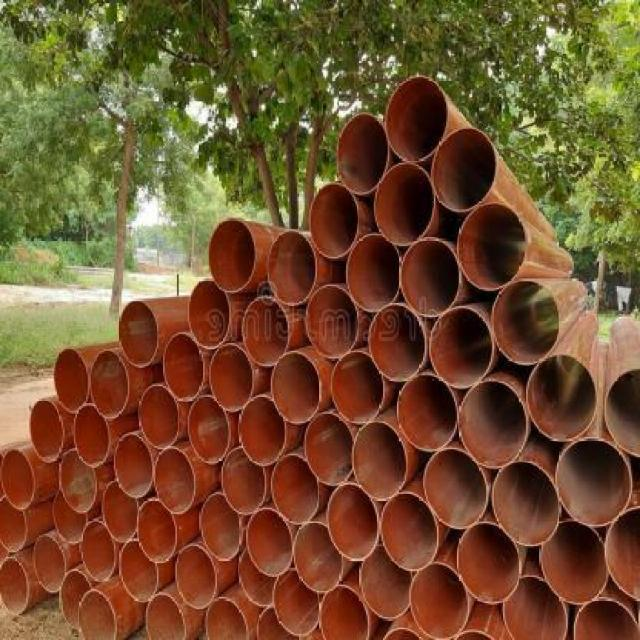pipe: (556, 437, 633, 526), (526, 354, 599, 442), (459, 379, 528, 470), (457, 202, 526, 291), (491, 280, 560, 365), (491, 462, 560, 547), (540, 520, 608, 605), (431, 128, 497, 213), (385, 76, 448, 162), (428, 308, 493, 390), (423, 448, 488, 530), (455, 523, 520, 605), (374, 163, 436, 246), (398, 238, 460, 317), (395, 373, 457, 451), (409, 561, 469, 640), (368, 303, 426, 382), (380, 492, 438, 571), (351, 420, 407, 500), (336, 114, 390, 196), (346, 234, 402, 313), (502, 574, 568, 640), (326, 483, 380, 562), (330, 350, 385, 425), (359, 545, 413, 621), (308, 182, 361, 259), (305, 285, 359, 359), (266, 231, 317, 306), (271, 351, 322, 425), (303, 412, 354, 486), (292, 521, 343, 594), (208, 219, 256, 294), (271, 454, 320, 525), (242, 297, 290, 368), (239, 396, 287, 467), (605, 506, 640, 601), (245, 508, 293, 577), (603, 368, 640, 457), (272, 568, 320, 636), (220, 448, 266, 516), (209, 343, 254, 411), (188, 278, 229, 351), (154, 446, 197, 514), (200, 494, 243, 562), (319, 584, 370, 640), (572, 598, 640, 640), (89, 349, 129, 420), (164, 334, 205, 402), (188, 395, 229, 463), (138, 385, 180, 450), (120, 300, 160, 368), (176, 545, 217, 611), (114, 432, 154, 497), (137, 499, 177, 564), (58, 449, 97, 514), (119, 539, 159, 602), (52, 348, 88, 413), (29, 399, 65, 464), (73, 405, 110, 468), (102, 480, 139, 542), (80, 520, 116, 582), (239, 548, 276, 605), (60, 571, 93, 633), (0, 449, 34, 509), (205, 595, 250, 640), (145, 592, 187, 640), (32, 534, 66, 593), (52, 490, 88, 545), (78, 591, 117, 639), (0, 557, 28, 616), (0, 497, 28, 554), (257, 606, 302, 640)
